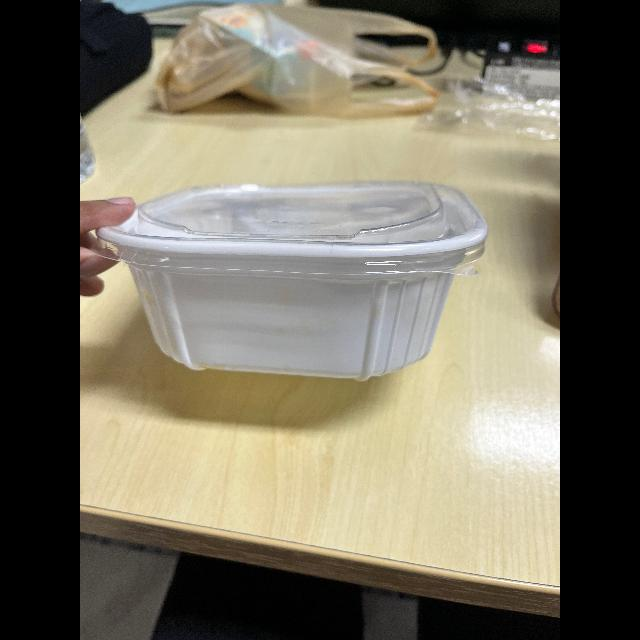plastic_box: (100, 168, 488, 392)
